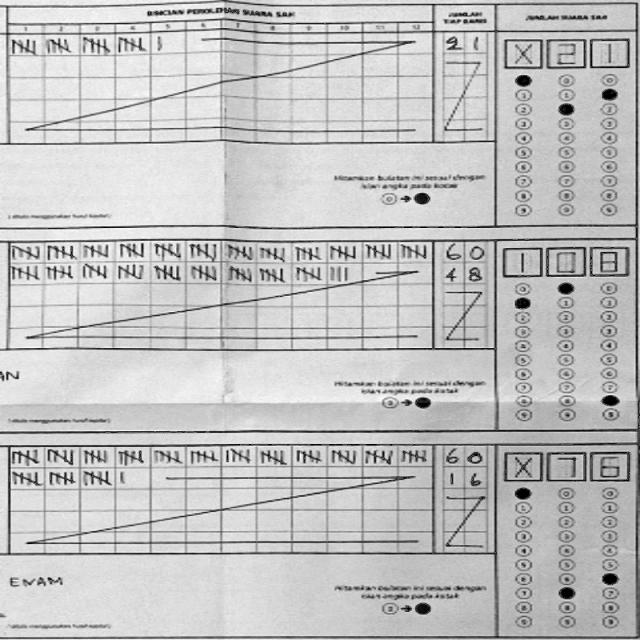Suara: (502, 442, 631, 482), (500, 33, 630, 70), (500, 247, 628, 279)
